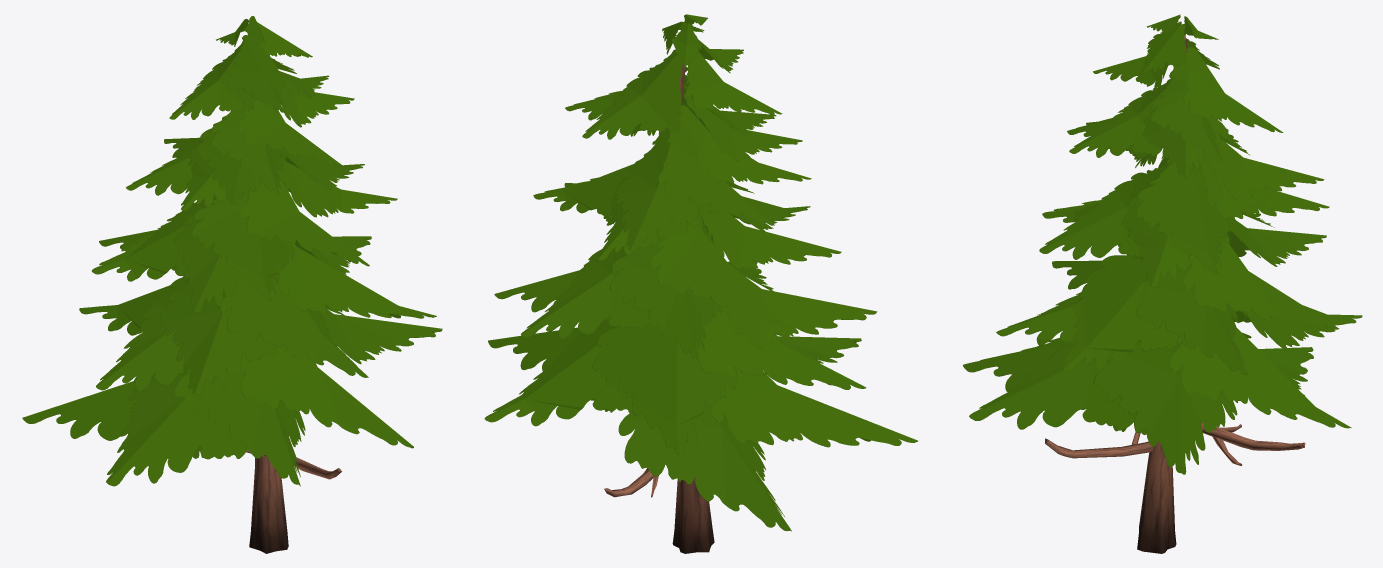
The model's file is Pine_2.glb.
3 renders of one model, left to right at view 1: azimuth 30°, elevation 25°; view 2: azimuth 150°, elevation 25°; view 3: azimuth 270°, elevation 25°, orthographic. The views are drawn at different scales.
Size of the model in its own units: 5.73 by 7.38 by 5.22.
2 materials, 2 textured.
